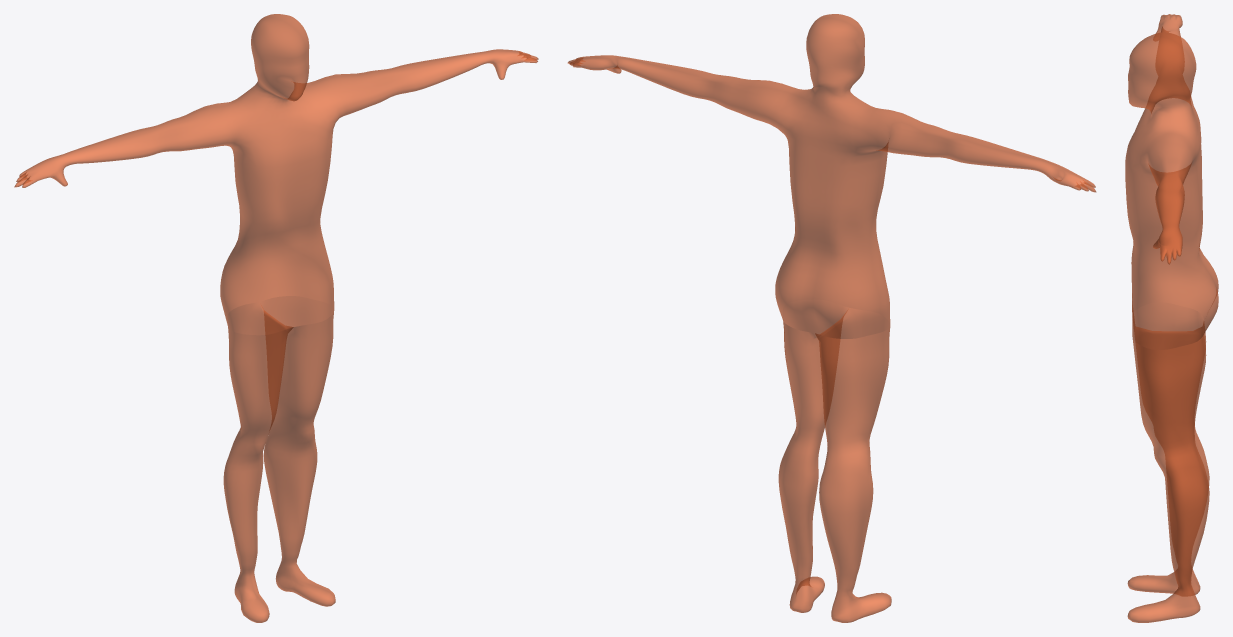
The model's file is character.fbx.
3 renders of one model, left to right at view 1: azimuth 30°, elevation 25°; view 2: azimuth 150°, elevation 25°; view 3: azimuth 270°, elevation 25°, orthographic. The views are drawn at different scales.
Parts seen in each view (by area): view 1: Cube; view 2: Cube; view 3: Cube.
Boxes of the visible parts, x1=… form: Cube: x1=14, y1=14, x2=538, y2=622; Cube: x1=567, y1=14, x2=1096, y2=622; Cube: x1=1125, y1=14, x2=1218, y2=622.
Size of the model in its own units: 168 by 180 by 26.69.
